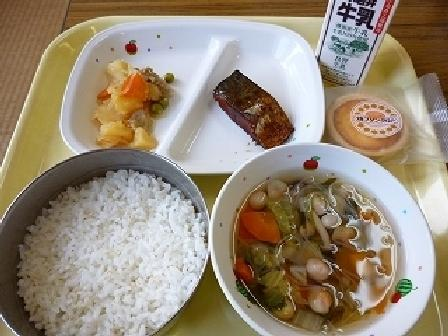Cup desserts: (322, 87, 442, 167)
Fish: (202, 56, 299, 157)
Milk: (299, 2, 407, 83)
Rice: (0, 144, 213, 331)
vegetable based cooked food: (74, 52, 179, 154)
vegetable soup: (218, 150, 427, 333)
